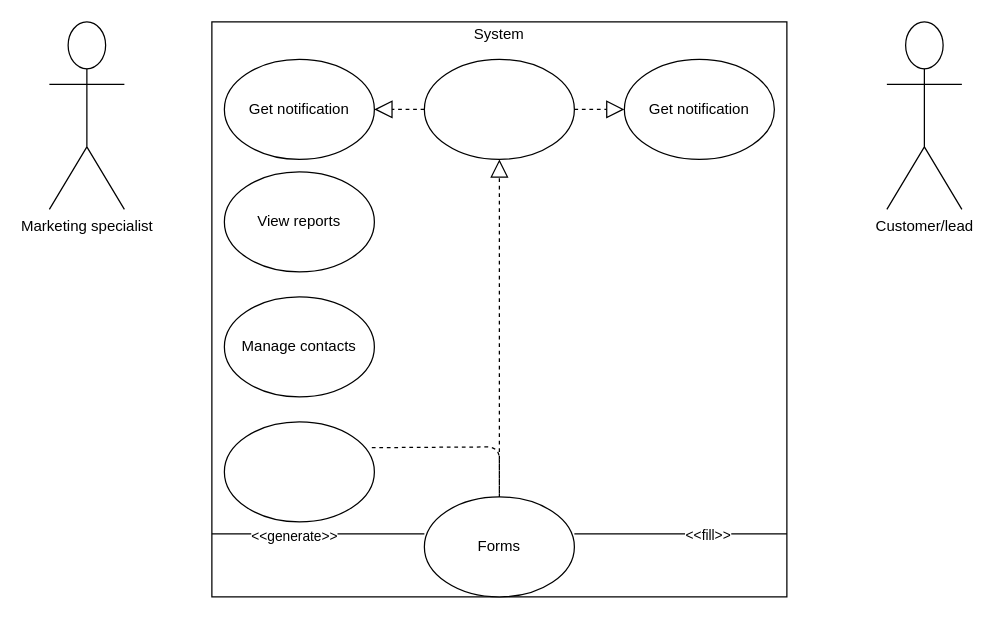
Image size: 995x619. Some labels were removed from this diagram. The centre of each missing label's shape, as x and y in pixels:
Manage forms: the point at 298,471
Send notification: the point at 498,108
